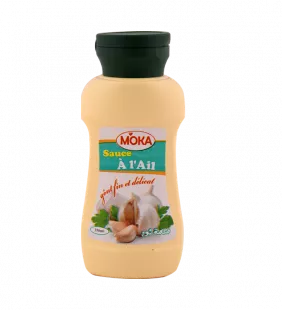MOKA: (75, 19, 197, 285)
